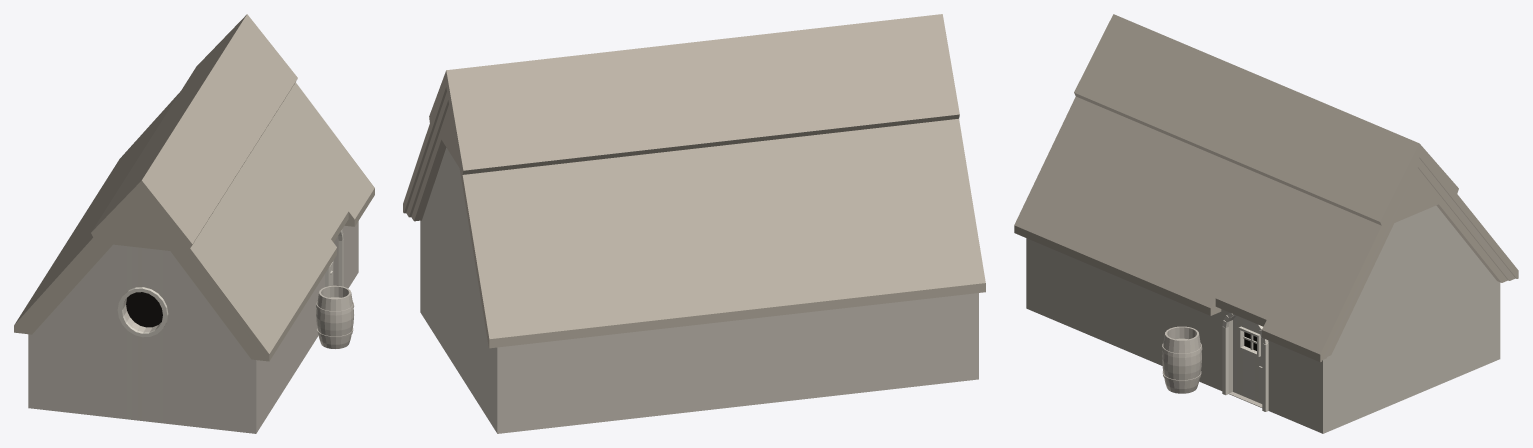
The model's file is house-east_clay.glb.
3 views of the same model, side by side, from view 1: azimuth 30°, elevation 25°; view 2: azimuth 150°, elevation 25°; view 3: azimuth 270°, elevation 25° (orthographic). The views are drawn at different scales.
Visible parts, largest first — view 1: roofs, walls, frames, openings; view 2: roofs, walls; view 3: roofs, walls, frames.
Part boxes in pixels (x1,y1,x2,y2): roofs: [14, 14, 374, 361]; walls: [28, 221, 358, 433]; frames: [117, 229, 343, 337]; openings: [126, 292, 162, 327]; roofs: [403, 14, 985, 348]; walls: [420, 148, 978, 433]; roofs: [1014, 14, 1518, 362]; walls: [1026, 205, 1500, 433]; frames: [1222, 313, 1268, 411].
Size of the model in its own units: 7.27 by 4.08 by 7.27.
